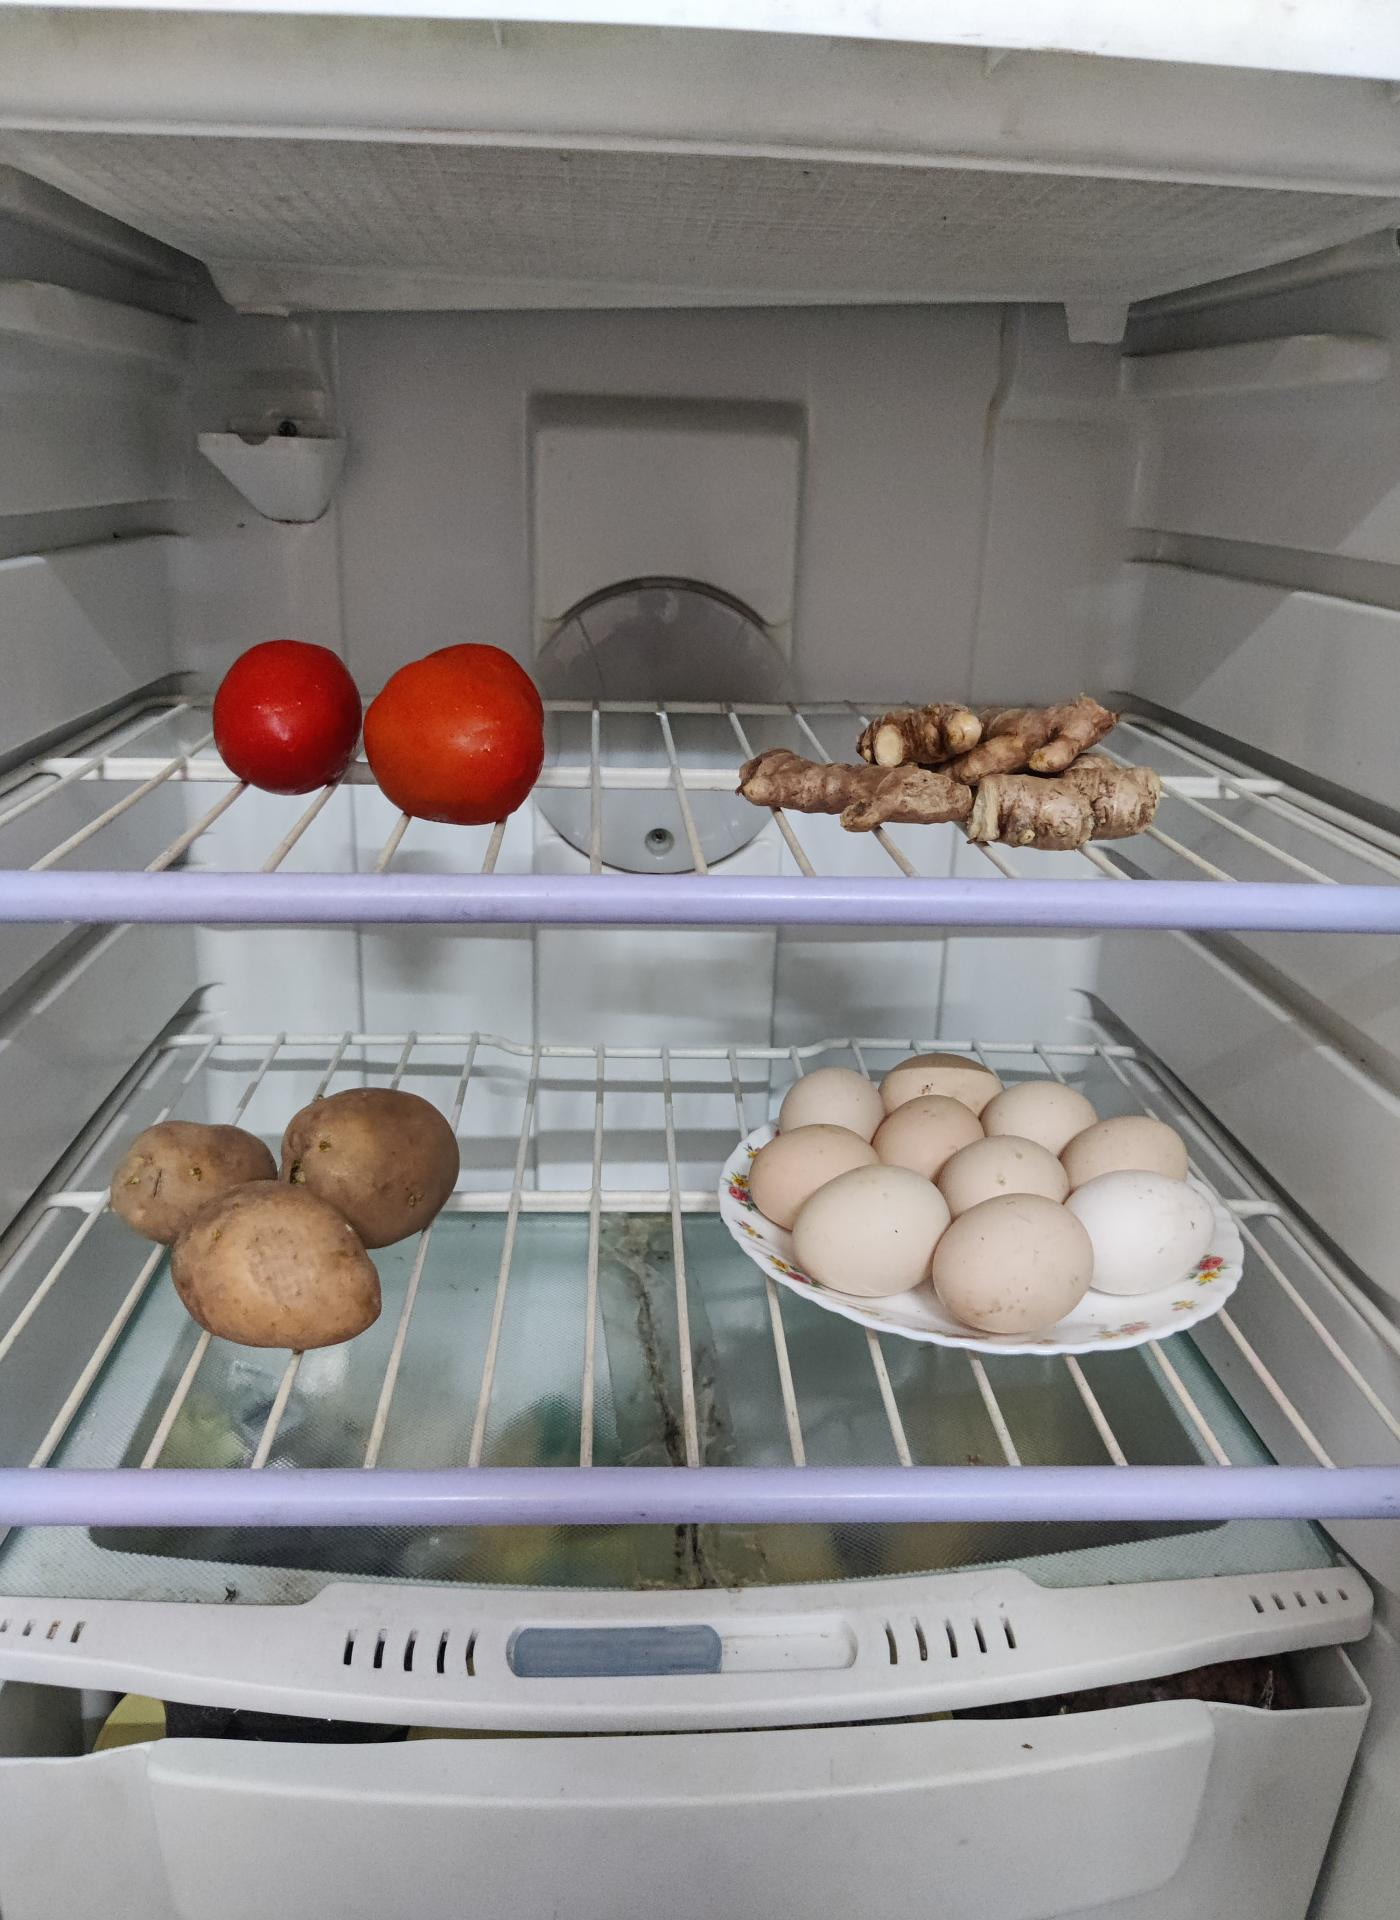egg: (732, 1054, 1208, 1340)
ginger: (734, 702, 1155, 862)
potato: (109, 1090, 461, 1355)
tomato: (212, 631, 550, 817)
